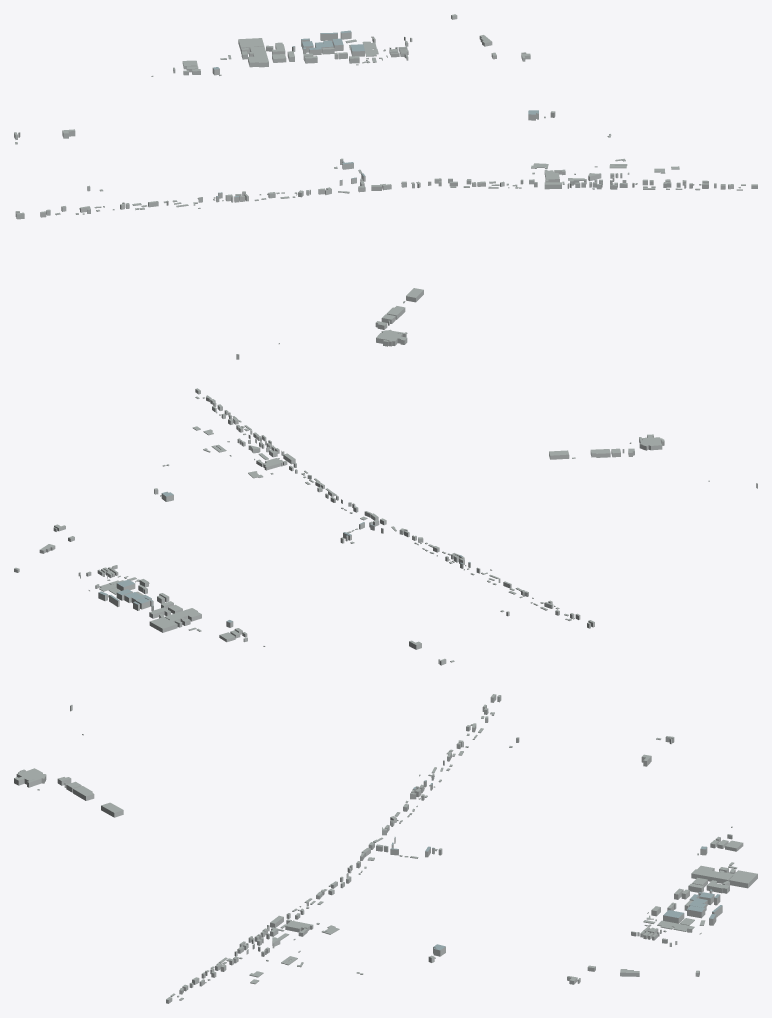
The model's file is far.glb.
3 renders of one model, top to bottom at view 1: azimuth 30°, elevation 25°; view 2: azimuth 150°, elevation 25°; view 3: azimuth 270°, elevation 25°, orthographic. The views are drawn at different scales.
Bounding box in the file's own units: 2082 × 23.1 × 2149.
